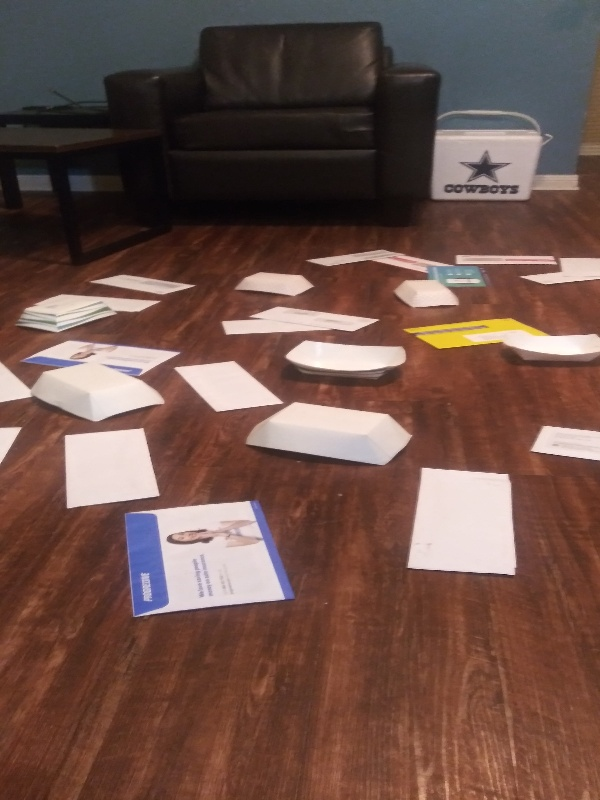plate: (240, 399, 419, 470), (28, 360, 168, 425), (279, 335, 410, 384), (8, 292, 124, 335), (495, 329, 600, 369), (390, 273, 465, 312), (230, 271, 321, 299)
